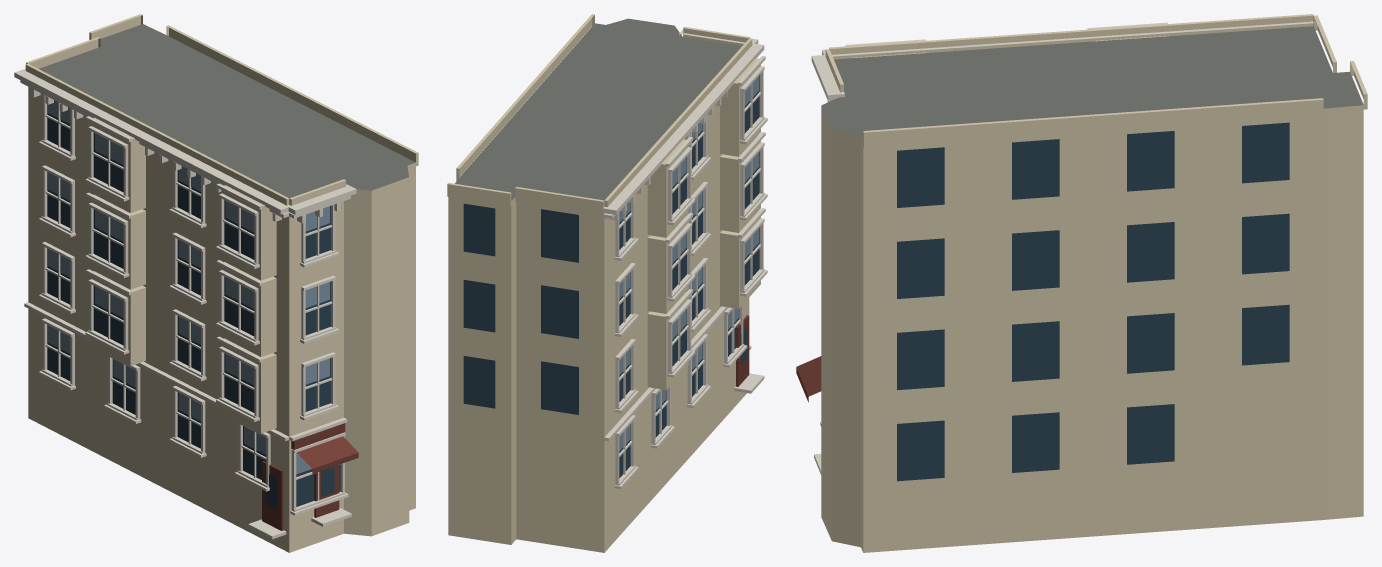
3 renders of one model, left to right at view 1: azimuth 30°, elevation 25°; view 2: azimuth 150°, elevation 25°; view 3: azimuth 270°, elevation 25°, orthographic. The views are drawn at different scales.
Parts seen in each view (by area): view 1: Footprint 0 / surface 2, Cornices and window frames, Footprint 0 / surface 1, Facade bay volumes, Inset glazing, Sky reflection panels, Storefronts and doors; view 2: Footprint 0 / surface 2, Footprint 0 / surface 1, Cornices and window frames, Facade bay volumes, Inset glazing, Sky reflection panels, Storefronts and doors; view 3: Footprint 0 / surface 2, Inset glazing, Footprint 0 / surface 1, Facade bay volumes, Cornices and window frames, Storefronts and doors.
Boxes of the visible parts, x1=… form: Footprint 0 / surface 2: x1=28, y1=87, x2=415, y2=552; Cornices and window frames: x1=14, y1=68, x2=356, y2=539; Footprint 0 / surface 1: x1=39, y1=24, x2=415, y2=198; Facade bay volumes: x1=25, y1=14, x2=418, y2=433; Inset glazing: x1=47, y1=104, x2=340, y2=509; Sky reflection panels: x1=48, y1=100, x2=329, y2=474; Storefronts and doors: x1=262, y1=423, x2=358, y2=530; Footprint 0 / surface 2: x1=448, y1=105, x2=749, y2=552; Footprint 0 / surface 1: x1=455, y1=18, x2=741, y2=200; Cornices and window frames: x1=603, y1=29, x2=767, y2=489; Facade bay volumes: x1=447, y1=14, x2=760, y2=389; Inset glazing: x1=463, y1=75, x2=759, y2=478; Sky reflection panels: x1=619, y1=76, x2=758, y2=450; Storefronts and doors: x1=736, y1=315, x2=749, y2=386; Footprint 0 / surface 2: x1=821, y1=105, x2=1363, y2=552; Inset glazing: x1=897, y1=122, x2=1289, y2=481; Footprint 0 / surface 1: x1=821, y1=26, x2=1363, y2=140; Facade bay volumes: x1=825, y1=14, x2=1367, y2=147; Cornices and window frames: x1=811, y1=21, x2=1313, y2=474; Storefronts and doors: x1=796, y1=356, x2=821, y2=402.
Bounding box in the file's own units: 8.85 × 13.97 × 17.15.
